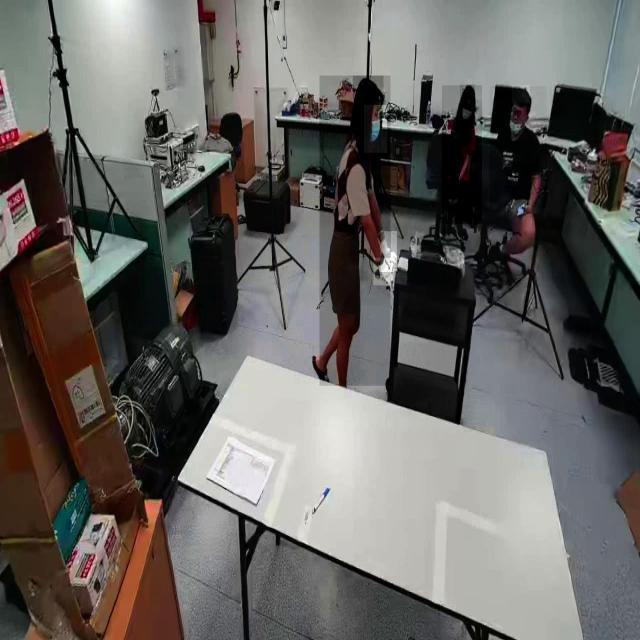face_mask: (364, 105, 387, 153), (458, 103, 474, 128)
hand_glove: (380, 231, 398, 272), (373, 258, 395, 286)
hand_noglove: (514, 200, 532, 216), (452, 175, 462, 196)
head_nohelmet: (353, 76, 384, 102), (512, 85, 530, 104), (460, 84, 476, 100)
person: (319, 76, 391, 387), (490, 86, 548, 208), (442, 85, 482, 225)
